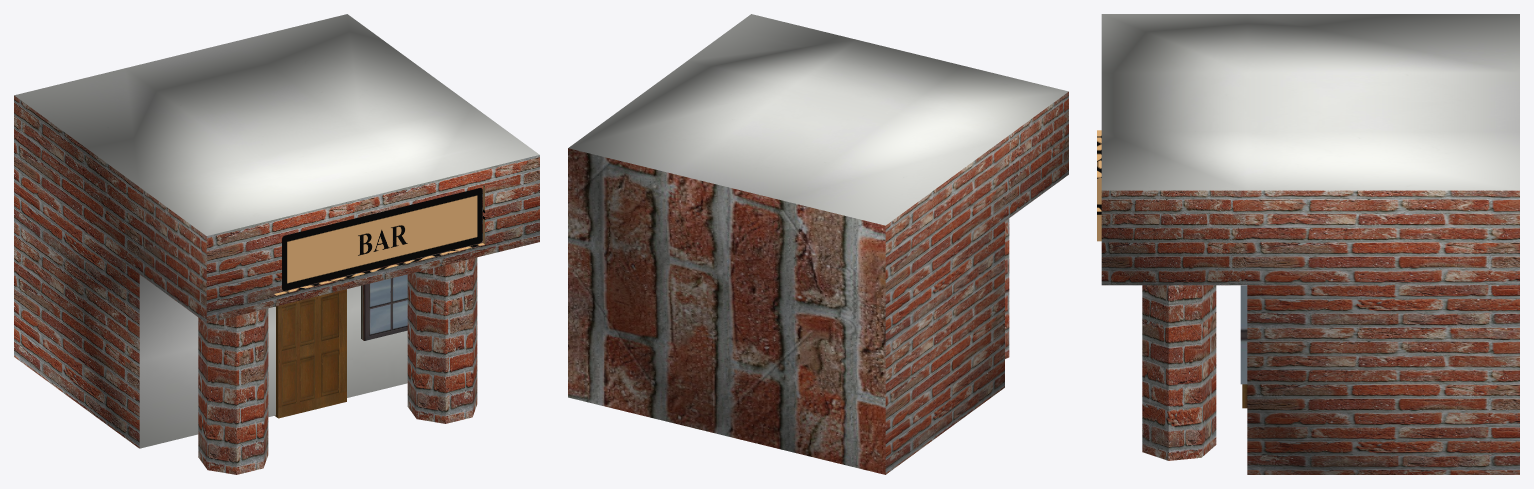
The model's file is BARmodelv3.fbx.
The picture shows the model from 3 angles, left to right: view 1: azimuth 30°, elevation 25°; view 2: azimuth 150°, elevation 25°; view 3: azimuth 270°, elevation 25°; orthographic projection. The views are drawn at different scales.
Visible parts, largest first — view 1: tempBARv3; view 2: tempBARv3; view 3: tempBARv3.
Boxes of the visible parts, box(x1,y1,x2,y2) form: tempBARv3: box(14, 14, 539, 474); tempBARv3: box(568, 14, 1068, 474); tempBARv3: box(1097, 14, 1519, 474).
Size of the model in its own units: 200 by 152 by 202.
